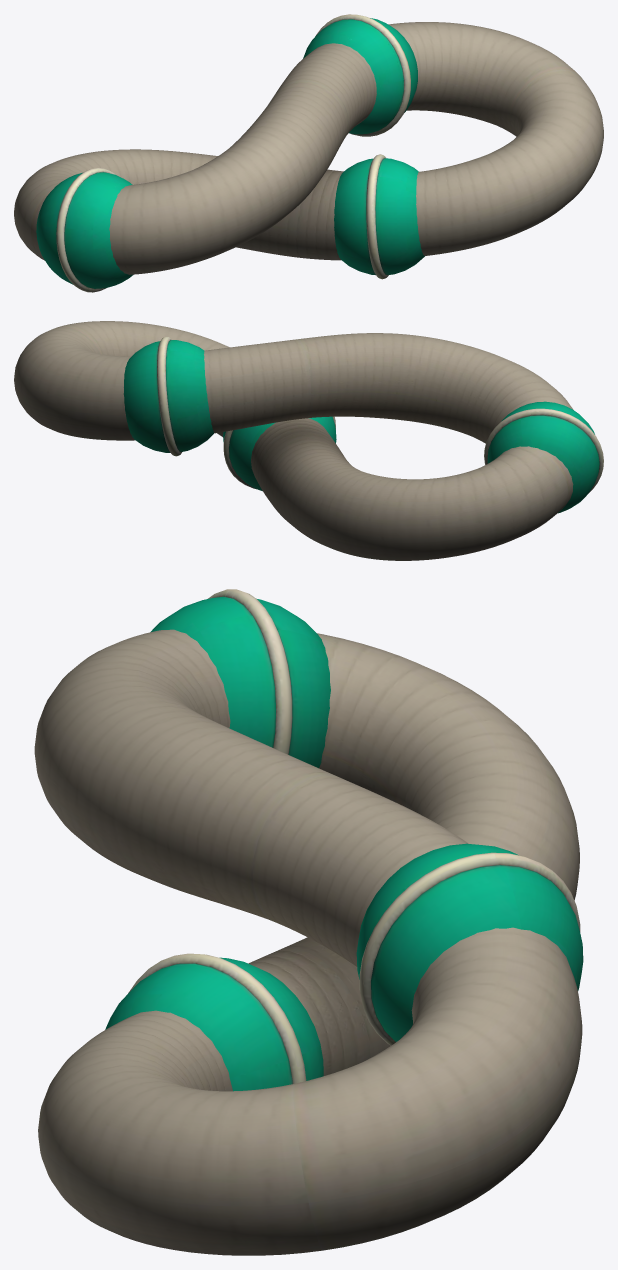
File: loop.glb
3 views of the same model, one above another, from view 1: azimuth 30°, elevation 25°; view 2: azimuth 150°, elevation 25°; view 3: azimuth 270°, elevation 25° (orthographic). The views are drawn at different scales.
Parts seen in each view (by area): view 1: Loop_mesh, Bead_2_mesh, Bead_1_mesh, Bead_0_mesh; view 2: Loop_mesh, Bead_0_mesh, Bead_1_mesh, Bead_2_mesh; view 3: Loop_mesh, Bead_0_mesh, Bead_1_mesh, Bead_2_mesh.
Boxes of the visible parts, x1,y1,x2,y2 form: Loop_mesh: [14, 22, 603, 274]; Bead_2_mesh: [334, 154, 424, 279]; Bead_1_mesh: [36, 168, 133, 292]; Bead_0_mesh: [303, 14, 417, 136]; Loop_mesh: [14, 321, 573, 560]; Bead_0_mesh: [123, 336, 213, 456]; Bead_1_mesh: [484, 401, 603, 513]; Bead_2_mesh: [223, 416, 336, 491]; Loop_mesh: [34, 629, 582, 1255]; Bead_0_mesh: [356, 843, 583, 1045]; Bead_1_mesh: [150, 589, 330, 768]; Bead_2_mesh: [105, 953, 323, 1091].
Size of the model in its own units: 3.74 by 1.23 by 1.64.
1 material, 1 textured.
